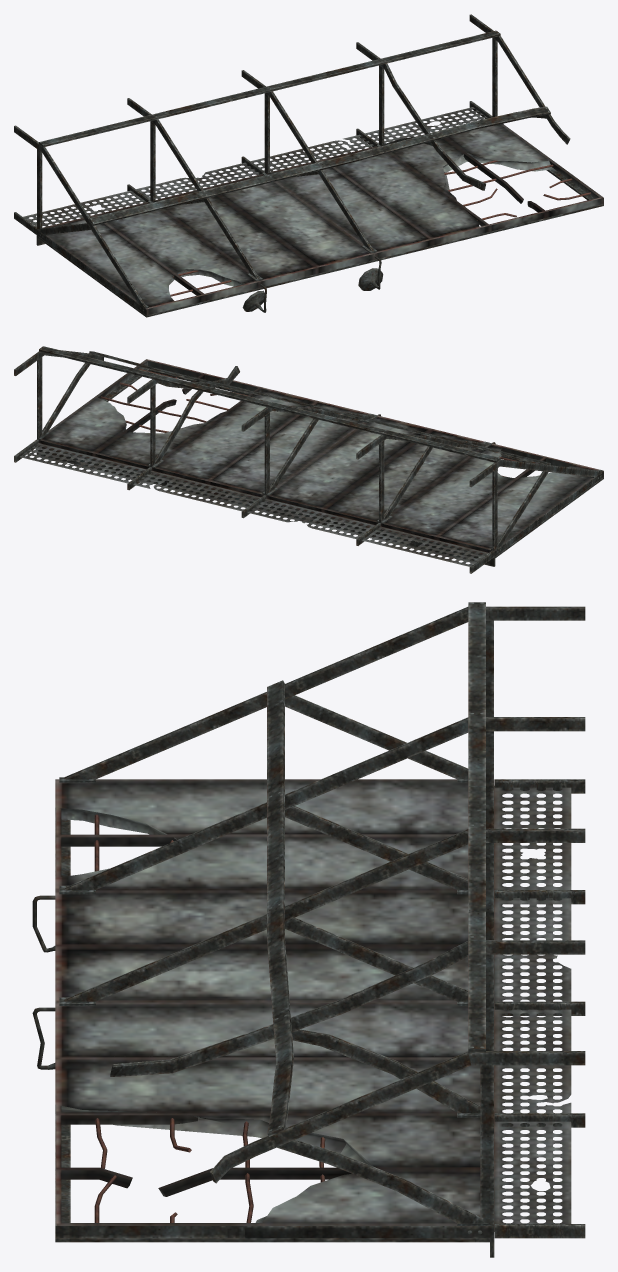
File: billboard.obj
3 renders of one model, top to bottom at view 1: azimuth 30°, elevation 25°; view 2: azimuth 150°, elevation 25°; view 3: azimuth 270°, elevation 25°, orthographic. The views are drawn at different scales.
Parts seen in each view (by area): view 1: Billboard05cV2:3; view 2: Billboard05cV2:3; view 3: Billboard05cV2:3.
Boxes of the visible parts, x1,y1,x2,y2 form: Billboard05cV2:3: (14, 14, 603, 317); Billboard05cV2:3: (14, 346, 603, 573); Billboard05cV2:3: (32, 602, 585, 1257).
Size of what is drawn, in the model's own units: 946 by 254 by 488.
